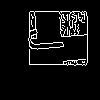J: (25, 25, 73, 54)
